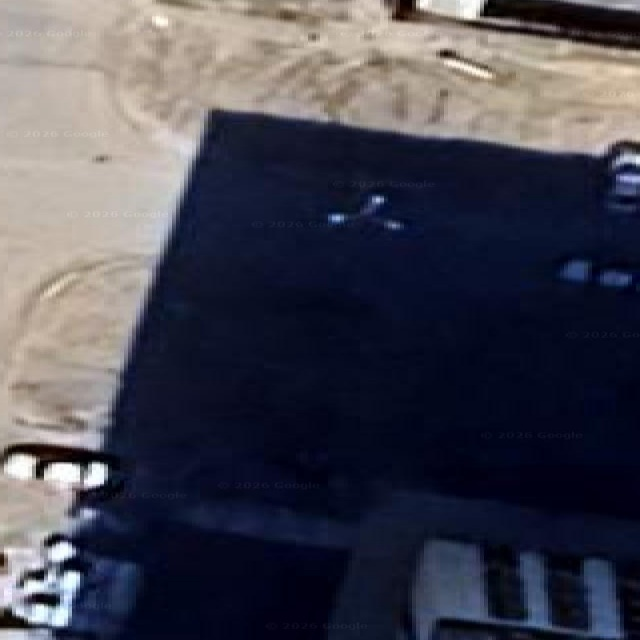car: (8, 533, 139, 639), (12, 533, 88, 627), (0, 443, 123, 495), (604, 141, 639, 215), (380, 0, 486, 19), (12, 591, 60, 627), (55, 555, 88, 595), (42, 532, 76, 564), (15, 567, 51, 596), (3, 449, 36, 479), (382, 0, 413, 18)
